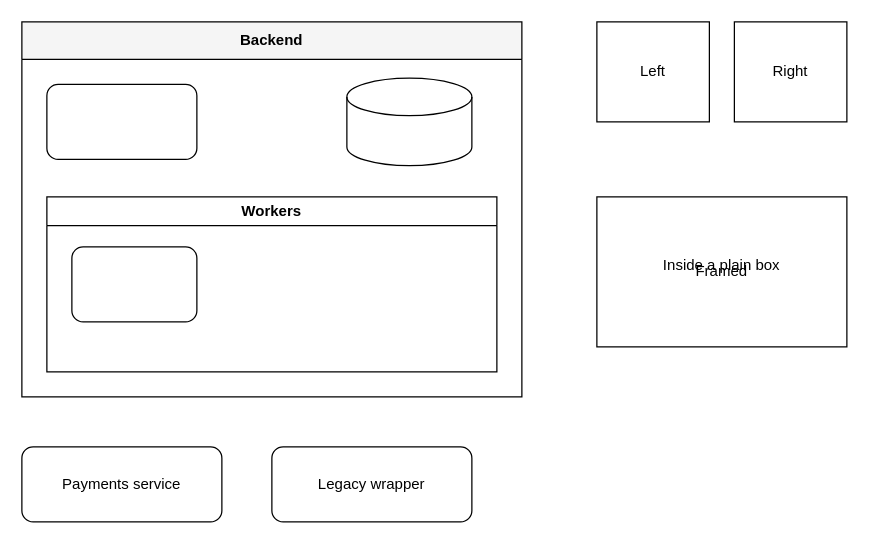
Image size: 869x544. Some labels were removed from this diagram. Here are the shapes that lost their labels. From the top down, the centre of each, then its label:
[121,121]: API
[409,121]: DB
[134,284]: Job runner
